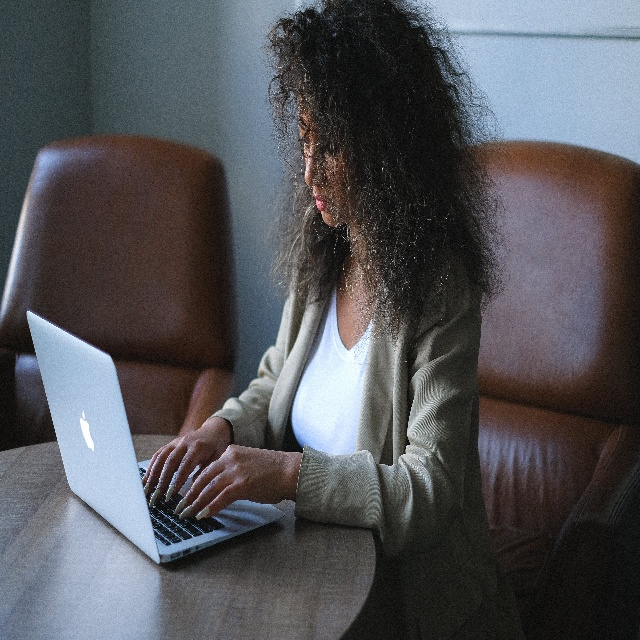Sin_guantes: (176, 443, 299, 531), (143, 430, 232, 508)
